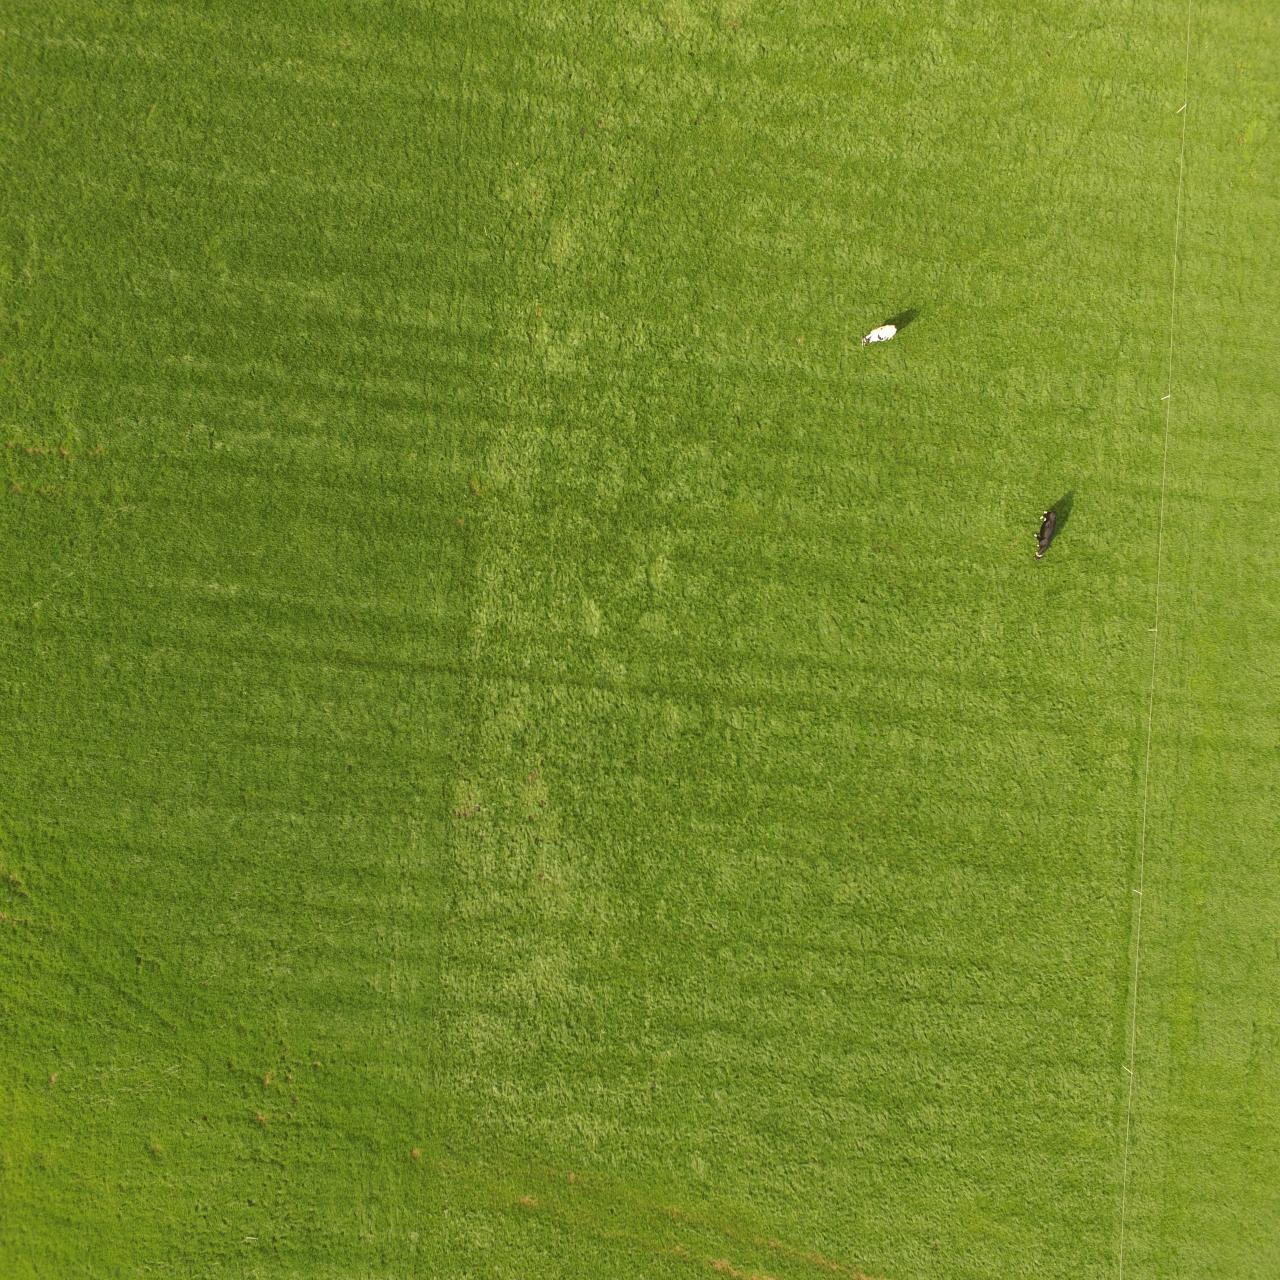cow: (1029, 504, 1061, 564), (858, 321, 900, 347)
